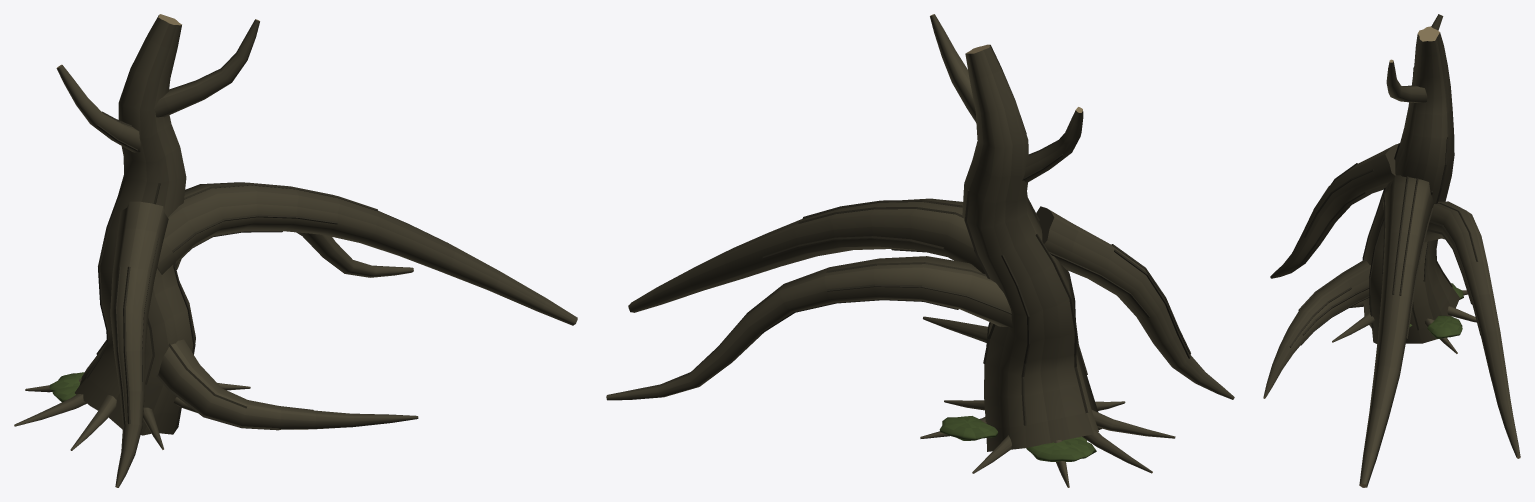
Rendered from strange_root_arch_b.glb.
3 renders of one model, left to right at view 1: azimuth 30°, elevation 25°; view 2: azimuth 150°, elevation 25°; view 3: azimuth 270°, elevation 25°, orthographic. The views are drawn at different scales.
Parts seen in each view (by area): view 1: strange_root_arch_b; view 2: strange_root_arch_b; view 3: strange_root_arch_b.
Boxes of the visible parts, left/top/right/bottom form: strange_root_arch_b: left=14, top=14, right=577, bottom=487; strange_root_arch_b: left=606, top=14, right=1234, bottom=487; strange_root_arch_b: left=1263, top=14, right=1520, bottom=487.
Bounding box in the file's own units: 14.42 × 10.16 × 7.29.
